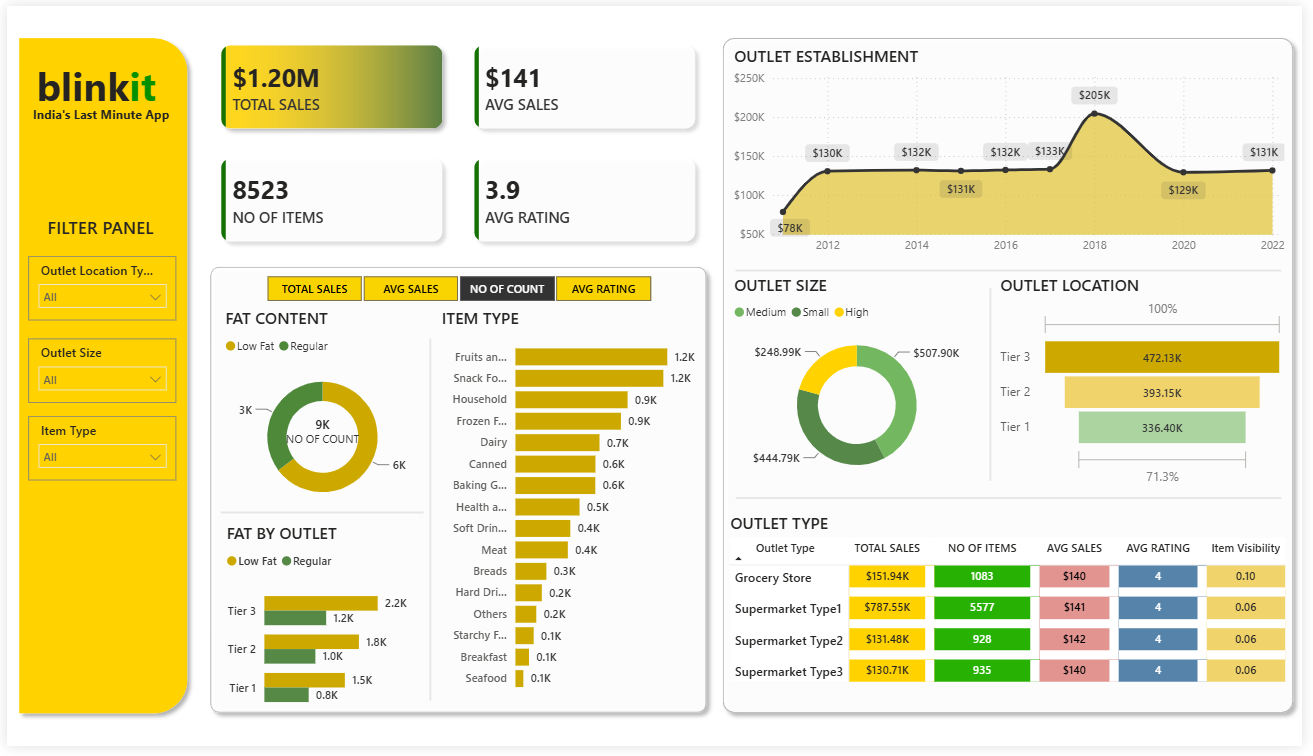

The dashboard page shown, as its layout file describes it:
{"tool":"powerbi","page":{"name":"Page 1","canvas":[1400,800],"ordinal":0},"visuals":[{"type":"shape","box":[3.7,25.9,200,748.1],"z":0},{"type":"textbox","box":[27.2,51.9,153.1,67.9],"z":1000},{"type":"textbox","box":[23.5,102.5,160.5,35.8],"z":2000},{"type":"cardVisual","fields":{"Data":["BlinkIT Grocery Data.TOTAL SALES","BlinkIT Grocery Data.AVG SALES","BlinkIT Grocery Data.NO OF COUNT","BlinkIT Grocery Data.AVG RATING"]},"box":[202.5,13.9,570.9,270.9],"z":3000},{"type":"shape","box":[211.4,273.4,554.4,500],"z":4000},{"type":"donutChart","title":"FAT CONTENT","fields":{"Y":["BlinkIT Grocery Data.NO OF ITEMS"],"Category":["BlinkIT Grocery Data.Item Fat Content"]},"box":[231.6,325.3,220.3,230.4],"z":5000},{"type":"slicer","fields":{"Values":["Matrics.Matrics"]},"box":[255.7,284.8,464.6,40.5],"z":6000},{"type":"cardVisual","fields":{"Data":["BlinkIT Grocery Data.NO OF ITEMS"]},"box":[246.8,412.7,188.6,94.9],"z":7000},{"type":"clusteredBarChart","title":"FAT BY OUTLET","fields":{"Y":["BlinkIT Grocery Data.NO OF ITEMS"],"Category":["BlinkIT Grocery Data.Outlet Location Type"],"Series":["BlinkIT Grocery Data.Item Fat Content"]},"box":[232.1,557.7,220.5,217.9],"z":8000},{"type":"shape","box":[230.8,539.7,219.2,16.7],"z":9000},{"type":"shape","box":[451.9,359.5,12.7,391.1],"z":10000},{"type":"barChart","title":"ITEM TYPE","fields":{"Y":["BlinkIT Grocery Data.NO OF ITEMS"],"Category":["BlinkIT Grocery Data.Item Type"]},"box":[464.6,325.3,289.9,425.3],"z":11000},{"type":"shape","box":[765.4,25.6,634.6,747.4],"z":12000},{"type":"lineChart","title":"OUTLET ESTABLISHMENT","fields":{"Y":["BlinkIT Grocery Data.TOTAL SALES"],"Category":["BlinkIT Grocery Data.Outlet Establishment Year"]},"box":[780.8,42.3,605.1,234.6],"z":13000},{"type":"shape","box":[788.5,276.9,589.7,17.9],"z":14000},{"type":"donutChart","title":"OUTLET SIZE","fields":{"Category":["BlinkIT Grocery Data.Outlet Size"],"Y":["BlinkIT Grocery Data.TOTAL SALES"]},"box":[780.8,288.8,275.6,234.6],"z":15000},{"type":"shape","box":[1056.4,305.1,12.8,207.7],"z":16000},{"type":"funnel","title":"OUTLET LOCATION","fields":{"Y":["Sum(BlinkIT Grocery Data.Sales)"],"Category":["BlinkIT Grocery Data.Outlet Location Type"]},"box":[1069.2,288.8,316.7,234.6],"z":17000},{"type":"shape","box":[788.5,523.1,589.7,17.9],"z":18000},{"type":"pivotTable","title":"OUTLET TYPE","fields":{"Rows":["BlinkIT Grocery Data.Outlet Type"],"Values":["BlinkIT Grocery Data.TOTAL SALES","BlinkIT Grocery Data.NO OF COUNT","BlinkIT Grocery Data.AVG SALES","BlinkIT Grocery Data.AVG RATING","Avg(BlinkIT Grocery Data.Item Visibility)"]},"box":[776.9,547.4,612.8,238.5],"z":19000},{"type":"slicer","fields":{"Values":["BlinkIT Grocery Data.Outlet Location Type"]},"box":[23.1,270.5,160.3,69.2],"z":20000},{"type":"slicer","fields":{"Values":["BlinkIT Grocery Data.Outlet Size"]},"box":[23.1,359,160.3,69.2],"z":21000},{"type":"slicer","fields":{"Values":["BlinkIT Grocery Data.Item Type"]},"box":[23.1,443.6,160.3,69.2],"z":22000},{"type":"textbox","box":[23.1,221.8,156.4,39.7],"z":23000}]}

Visuals, with their boxes in screenshot pixels (x1, y1, x2, y2), scaled from the page's 1400x800 canvas onto the 1313x756 screenshot:
shape: pyautogui.locateOnScreen(3, 24, 191, 731)
textbox: pyautogui.locateOnScreen(26, 49, 169, 113)
textbox: pyautogui.locateOnScreen(22, 97, 173, 131)
cardVisual - BlinkIT Grocery Data.TOTAL SALES x BlinkIT Grocery Data.AVG SALES: pyautogui.locateOnScreen(190, 13, 725, 269)
shape: pyautogui.locateOnScreen(198, 258, 718, 731)
"FAT CONTENT" donutChart: pyautogui.locateOnScreen(217, 307, 424, 525)
slicer - Matrics.Matrics: pyautogui.locateOnScreen(240, 269, 676, 307)
cardVisual - BlinkIT Grocery Data.NO OF ITEMS: pyautogui.locateOnScreen(231, 390, 408, 480)
"FAT BY OUTLET" clusteredBarChart: pyautogui.locateOnScreen(218, 527, 424, 733)
shape: pyautogui.locateOnScreen(216, 510, 422, 526)
shape: pyautogui.locateOnScreen(424, 340, 436, 709)
"ITEM TYPE" barChart: pyautogui.locateOnScreen(436, 307, 708, 709)
shape: pyautogui.locateOnScreen(718, 24, 1312, 730)
"OUTLET ESTABLISHMENT" lineChart: pyautogui.locateOnScreen(732, 40, 1300, 262)
shape: pyautogui.locateOnScreen(740, 262, 1293, 279)
"OUTLET SIZE" donutChart: pyautogui.locateOnScreen(732, 273, 991, 495)
shape: pyautogui.locateOnScreen(991, 288, 1003, 485)
"OUTLET LOCATION" funnel: pyautogui.locateOnScreen(1003, 273, 1300, 495)
shape: pyautogui.locateOnScreen(740, 494, 1293, 511)
"OUTLET TYPE" pivotTable: pyautogui.locateOnScreen(729, 517, 1303, 743)
slicer - BlinkIT Grocery Data.Outlet Location Type: pyautogui.locateOnScreen(22, 256, 172, 321)
slicer - BlinkIT Grocery Data.Outlet Size: pyautogui.locateOnScreen(22, 339, 172, 405)
slicer - BlinkIT Grocery Data.Item Type: pyautogui.locateOnScreen(22, 419, 172, 485)
textbox: pyautogui.locateOnScreen(22, 210, 168, 247)
